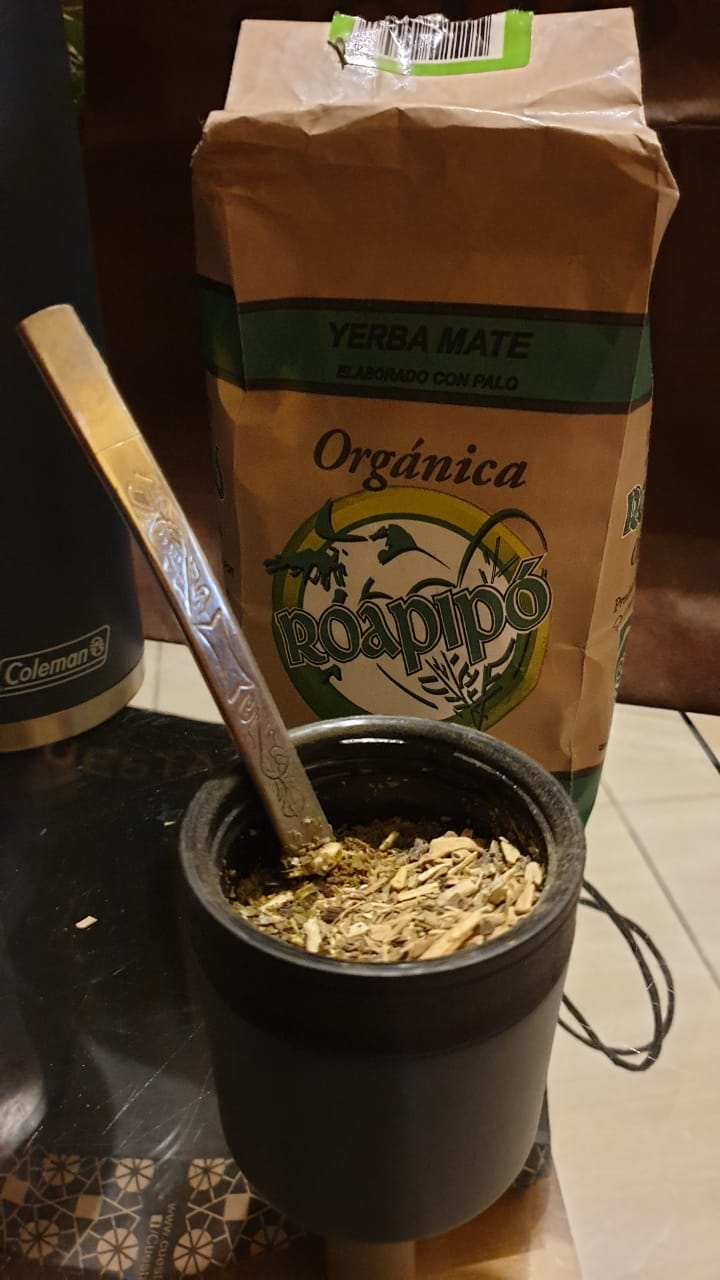mate: (160, 701, 596, 1261)
metal: (160, 725, 588, 1257)
